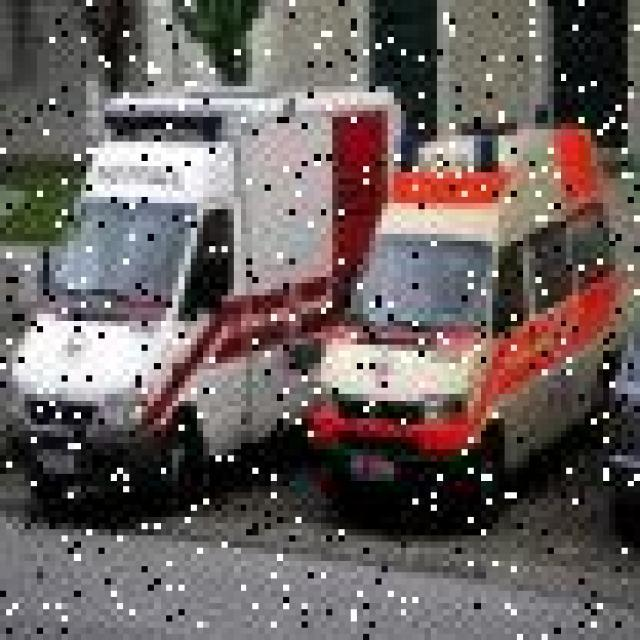emergency-vehicle: (21, 74, 404, 498), (329, 110, 600, 536)
